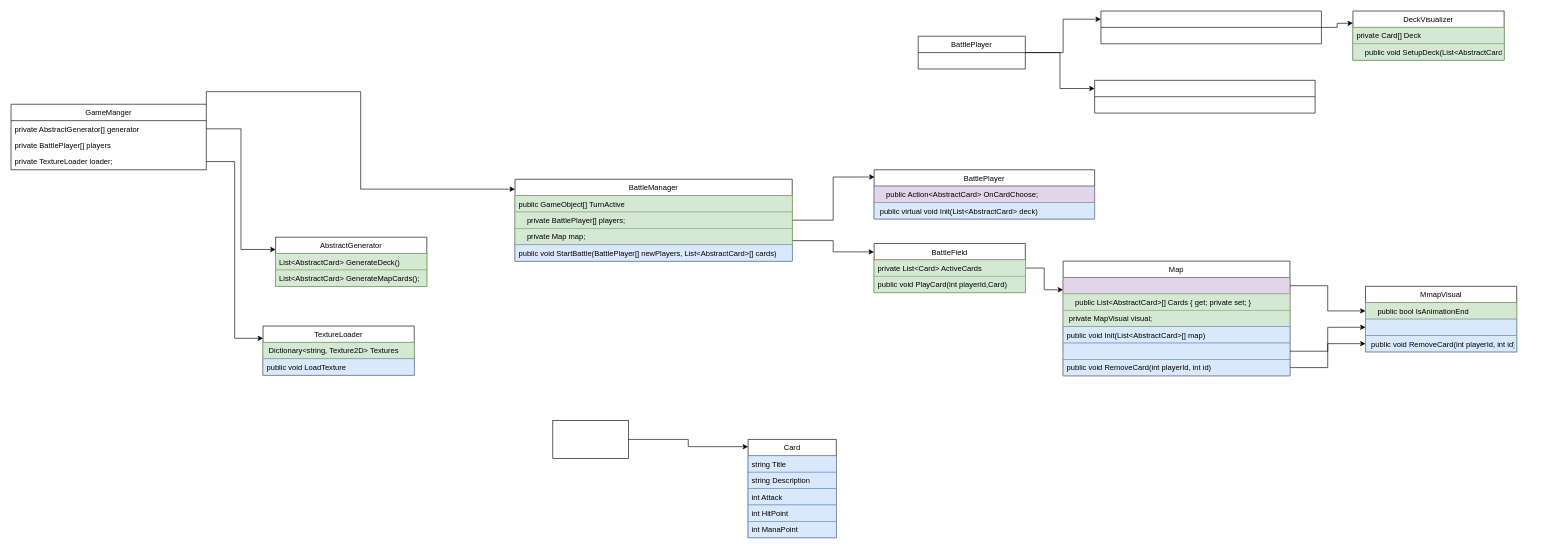
This 1557x551 diagram has some shape labels left out. The shapes that lost their labels are listed below. From the top down, each one's centre as x and y in pixels, then its label:
At point (1210, 27): "DemoPlayer".
At point (1204, 96): "DummyPlayer".
At point (1176, 285): "public Action OnAnimationEnd;".
At point (1441, 326): "public void AddCard(int playerID, AbstractCard card)".
At point (1176, 350): "public void PlayCard(int playerId, AbstractCard card)".
At point (590, 439): "Many classe use this".
